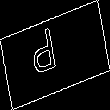P_S: (39, 26, 71, 84)
